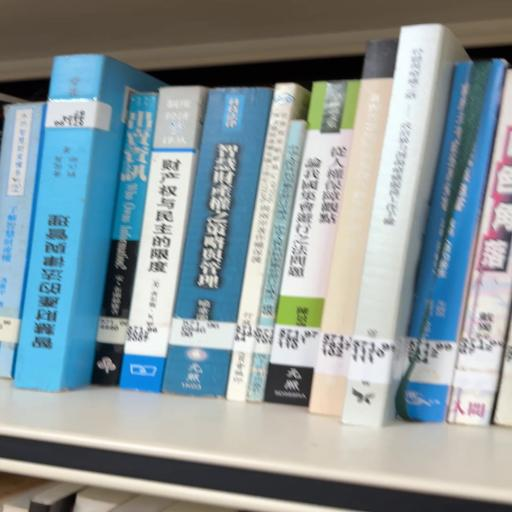reverse: (14, 56, 166, 392)
